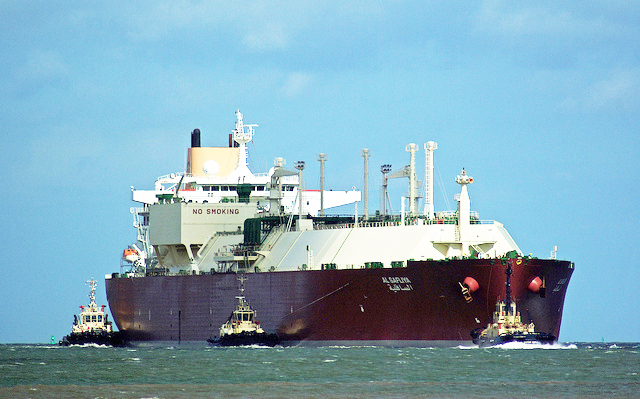LNG_ship: (106, 109, 589, 345)
tug_boat: (477, 263, 574, 352), (206, 279, 284, 350), (62, 283, 131, 347)
